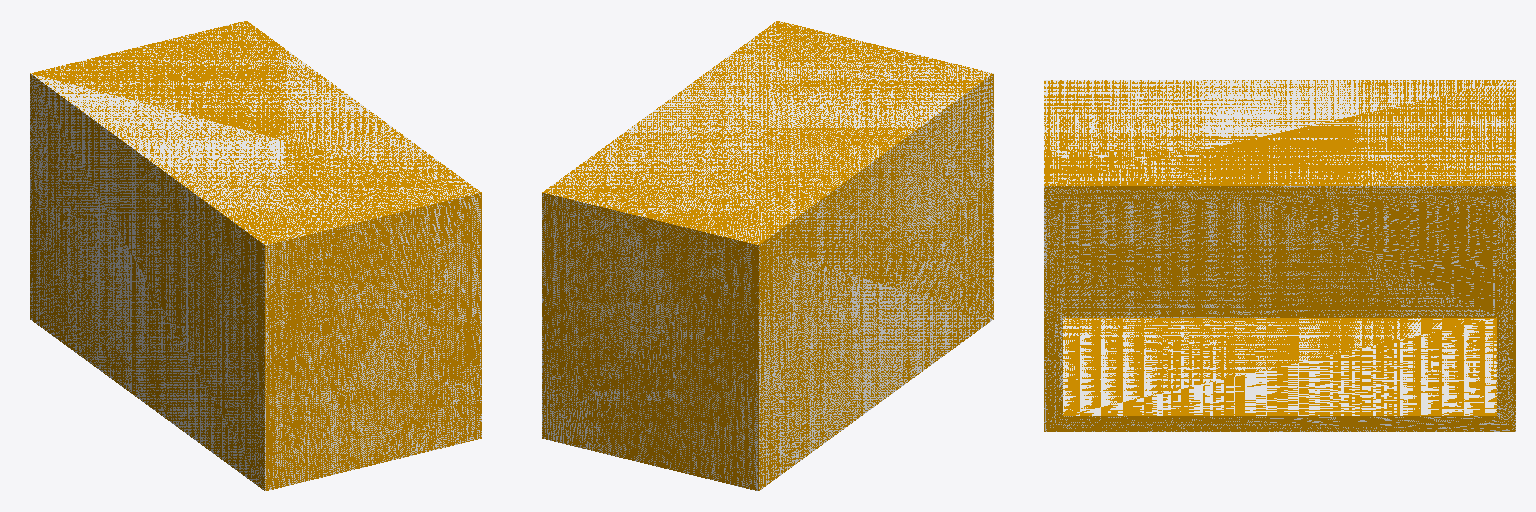
URDF robot description (my_object):
<?xml version="1.0" ?> 
<robot name="my_object" static="true">
  <link name="base_link">
  <inertial>
    <mass value="1.552" />
    <origin xyz="0 0 0.0" />
    <inertia ixx="1.0" ixy="0.0" ixz="0.0" iyy="1.0" iyz="0.0" izz="1.0"/>
  </inertial>
  <visual>
   <origin xyz="0 0 0.0" rpy="0 0 0" />
   <geometry>
     <mesh filename="package://cob_gazebo_objects/Media/models/self_made_shelf.dae"/>
   </geometry>
  </visual>
  <collision>
   <origin xyz="0 0 0" rpy="0 0 0" />
   <geometry>
	<box size="0 0 0" />
   </geometry>
  </collision>     
  </link>

<gazebo>
	<static>true</static>
</gazebo>
</robot>

--- What the picture shows (computed from the rendered views, not written in the file) ---
The picture shows the robot from 3 angles, left to right: view 1: azimuth 30°, elevation 25°; view 2: azimuth 150°, elevation 25°; view 3: azimuth 270°, elevation 25°; orthographic projection.
Robot: my_object — 1 links, 0 joints (none); root link base_link; default pose: all joints at 0.
Links seen in each view (by area): view 1: base_link; view 2: base_link; view 3: base_link.
Boxes of the visible links, left/top/right/bottom form: base_link: left=30, top=21, right=481, bottom=490; base_link: left=542, top=21, right=993, bottom=490; base_link: left=1044, top=80, right=1515, bottom=431.
Bounding box of the posed robot: 0.0086 × 0.0162 × 0.0094 m (x, y, z).
1 mesh visuals loaded from 1 distinct referenced files (1 Collada DAE).